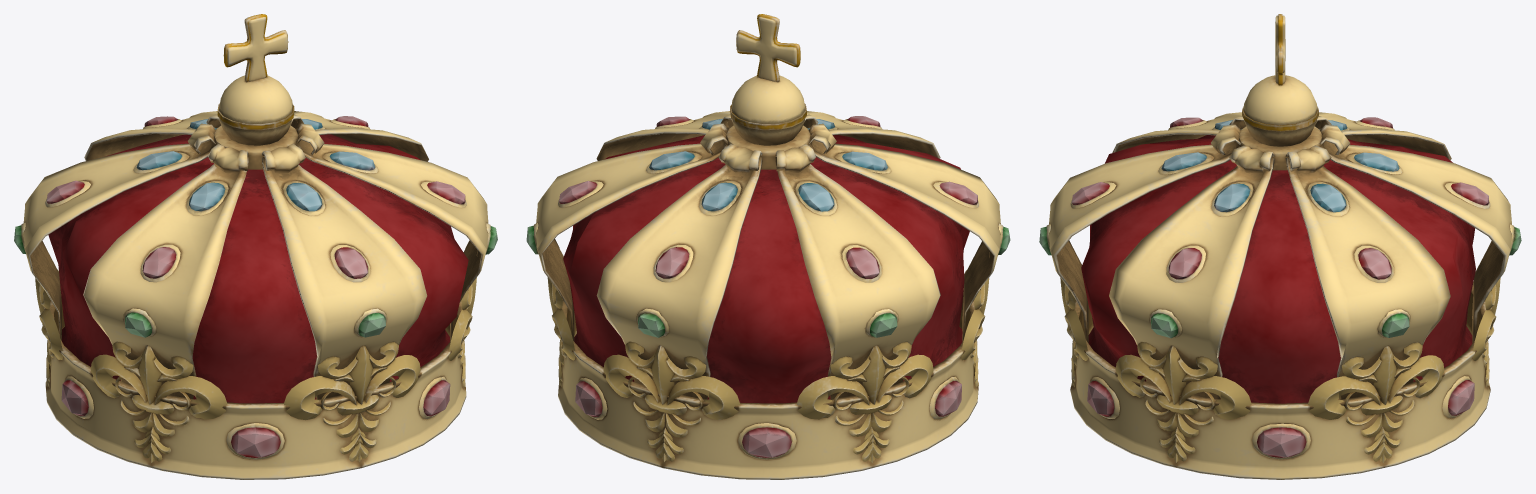
Rendered from Crown.fbx.
3 views of the same model, side by side, from view 1: azimuth 30°, elevation 25°; view 2: azimuth 150°, elevation 25°; view 3: azimuth 270°, elevation 25° (orthographic).
Parts seen in each view (by area): view 1: Crown, Cloth, Ornaments, Jems, Sphere, Cross; view 2: Crown, Cloth, Ornaments, Jems, Sphere, Cross; view 3: Crown, Cloth, Ornaments, Jems, Sphere, Cross.
Part boxes in pixels (left/top/right/bottom): Crown: left=23, top=111, right=488, bottom=479; Cloth: left=48, top=134, right=468, bottom=403; Ornaments: left=35, top=270, right=476, bottom=462; Jems: left=14, top=116, right=497, bottom=459; Sphere: left=212, top=75, right=299, bottom=169; Cross: left=223, top=14, right=288, bottom=82; Crown: left=536, top=111, right=1000, bottom=479; Cloth: left=563, top=135, right=969, bottom=403; Ornaments: left=547, top=270, right=989, bottom=462; Jems: left=526, top=116, right=1010, bottom=459; Sphere: left=725, top=75, right=811, bottom=169; Cross: left=736, top=14, right=800, bottom=82; Crown: left=1049, top=112, right=1511, bottom=479; Cloth: left=1081, top=135, right=1475, bottom=403; Ornaments: left=1060, top=278, right=1500, bottom=462; Jems: left=1039, top=117, right=1521, bottom=459; Sphere: left=1237, top=75, right=1323, bottom=170; Cross: left=1275, top=14, right=1285, bottom=85.
Size of the model in its own units: 219 by 197 by 230.
